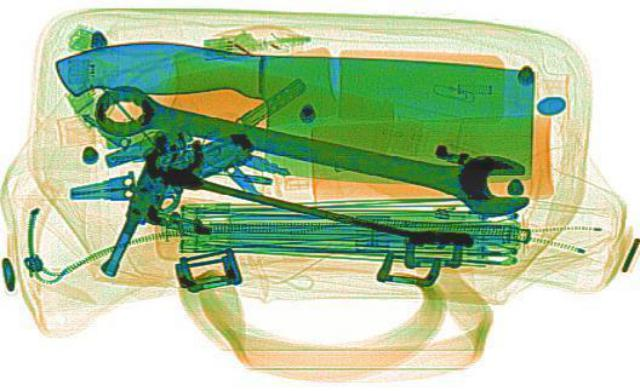Gun: (94, 122, 262, 285)
Knife: (37, 34, 549, 188)
Wrench: (76, 75, 550, 220)
